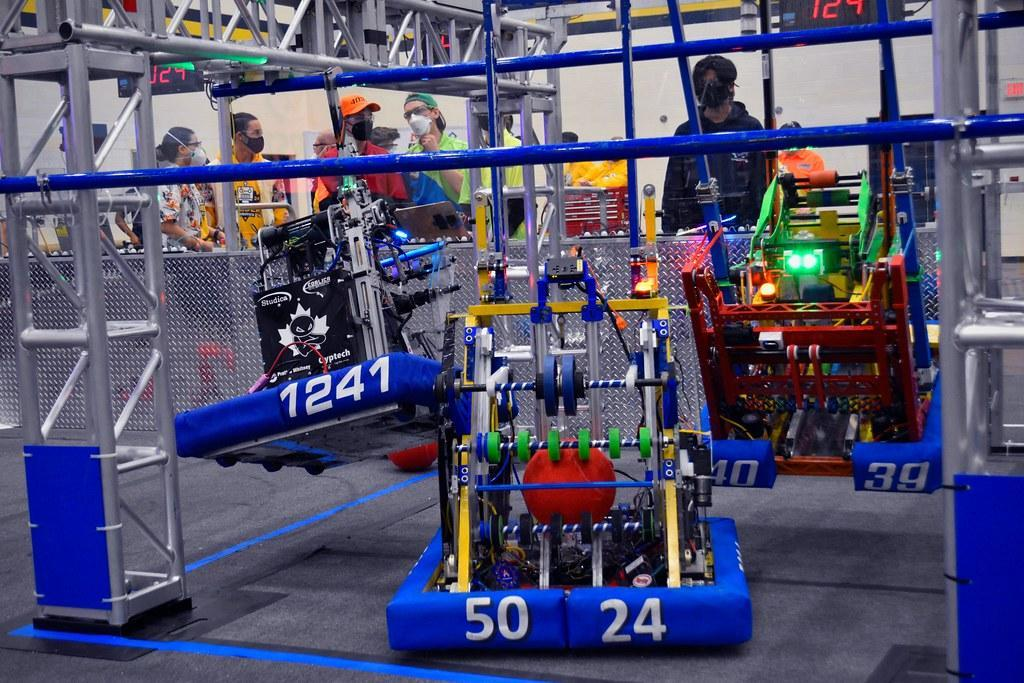robot: (382, 0, 766, 662), (667, 0, 960, 505), (163, 44, 462, 497)
